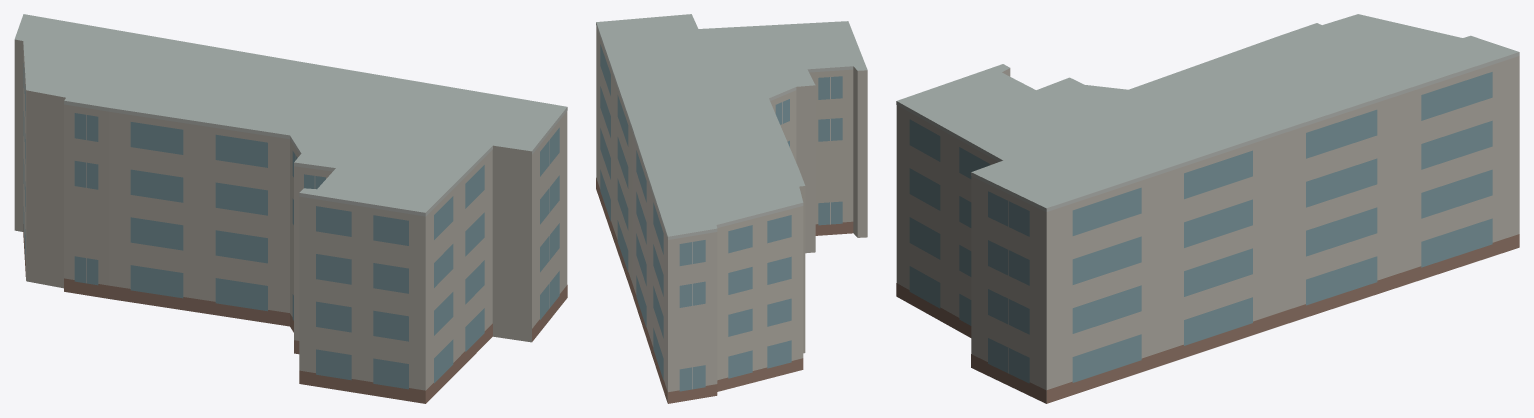
File: survey-upis-32622463.glb
The picture shows the model from 3 angles, left to right: view 1: azimuth 30°, elevation 25°; view 2: azimuth 150°, elevation 25°; view 3: azimuth 270°, elevation 25°; orthographic projection. The views are drawn at different scales.
Visible parts, largest first — view 1: survey-upis-32622463.tmp; view 2: survey-upis-32622463.tmp; view 3: survey-upis-32622463.tmp.
Part boxes in pixels (x1,y1,x2,y2): survey-upis-32622463.tmp: (14, 14, 567, 403); survey-upis-32622463.tmp: (596, 14, 867, 403); survey-upis-32622463.tmp: (896, 14, 1519, 403).
Size of the model in its own units: 26.22 by 12.3 by 35.52.
